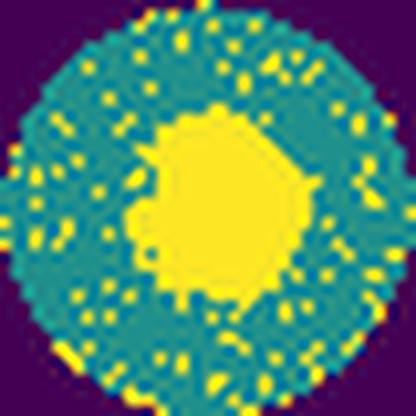Center: (124, 100, 323, 320)
